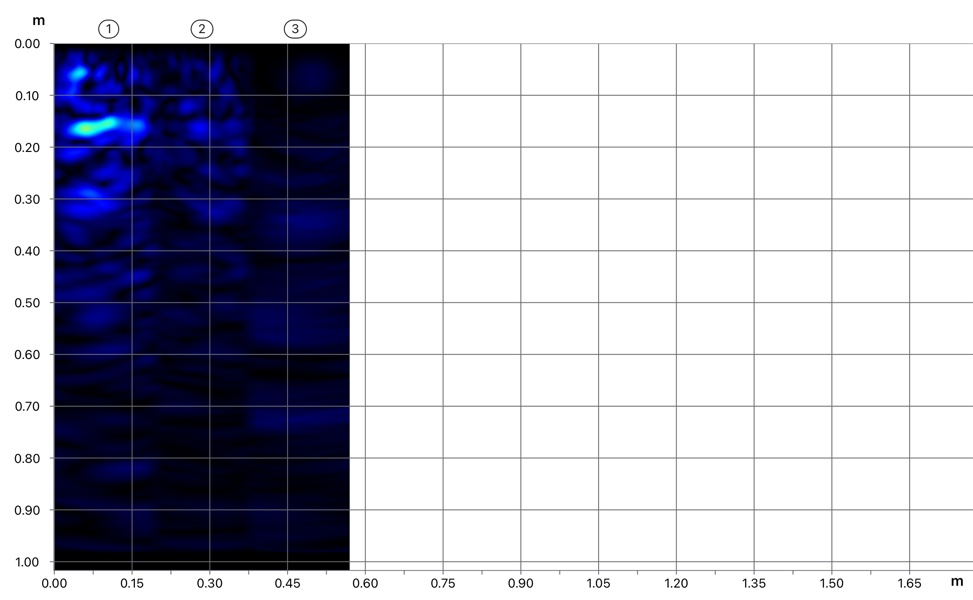crop: (0, 2, 351, 330)
